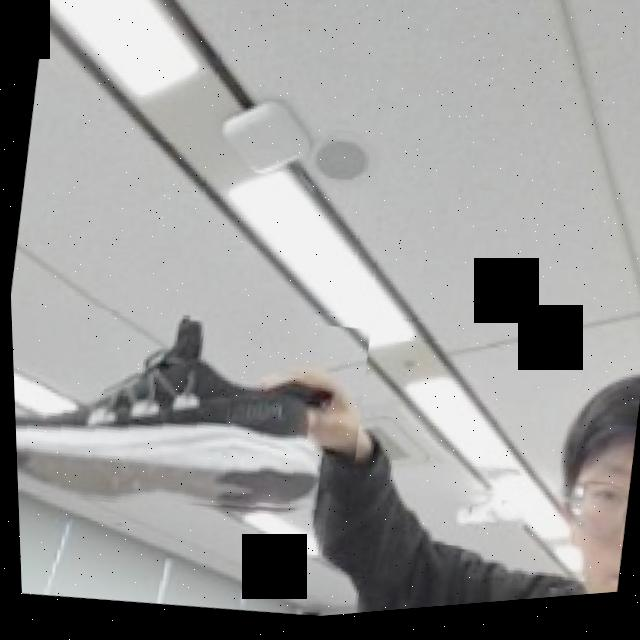shoe: (9, 281, 373, 548)
